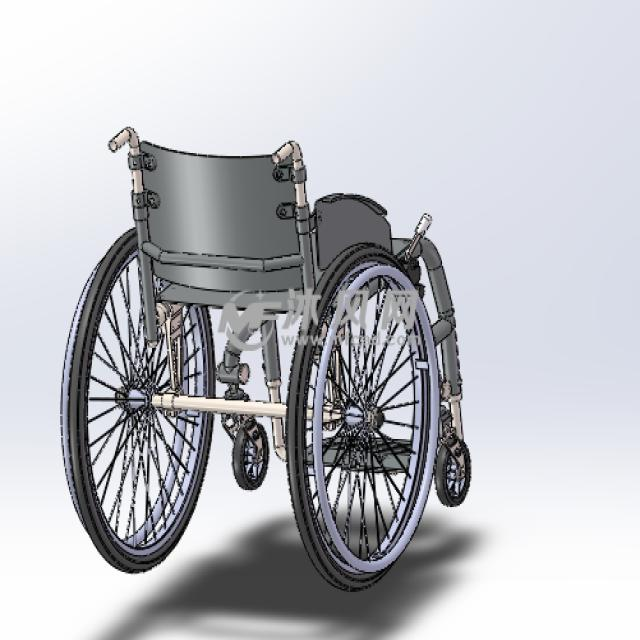wheelchairs: (38, 119, 476, 600)
